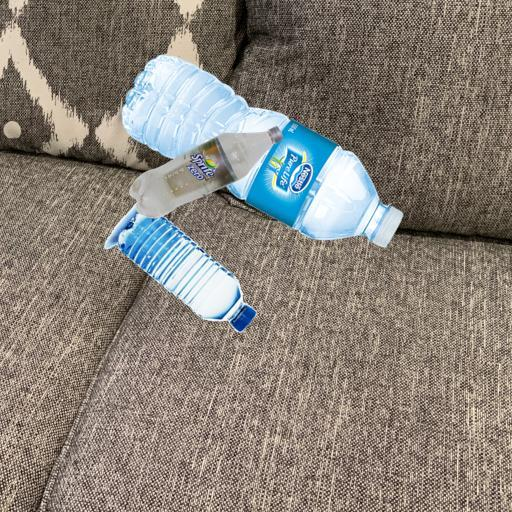bottle: (100, 0, 417, 182), (29, 203, 42, 330), (203, 0, 206, 47)
